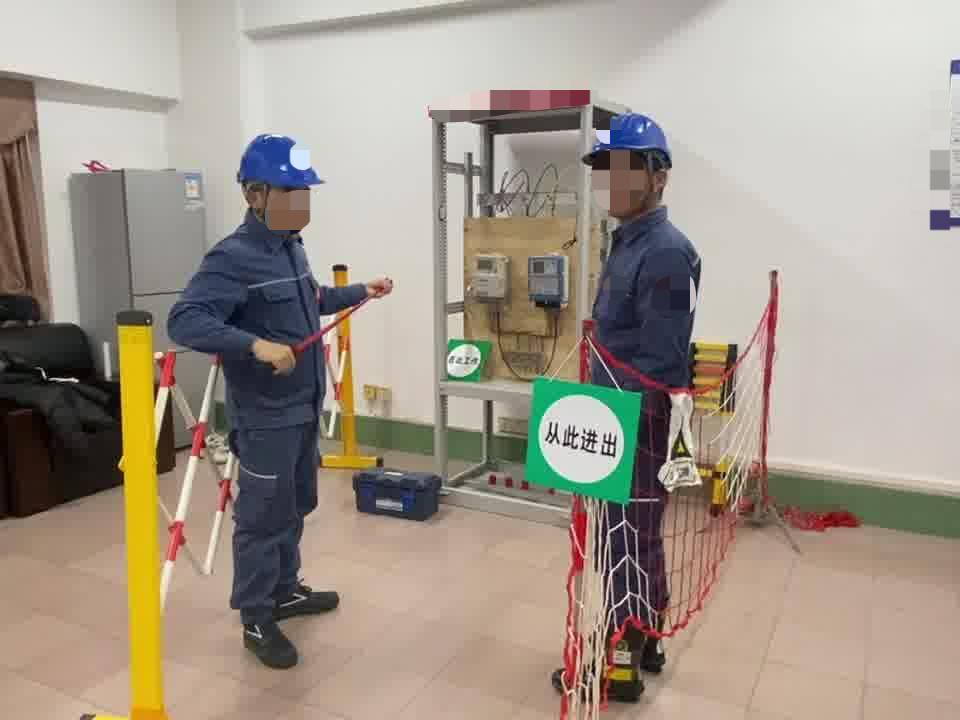halt: (586, 114, 679, 222), (238, 135, 325, 233)
inear: (642, 156, 675, 207), (244, 183, 279, 223)
